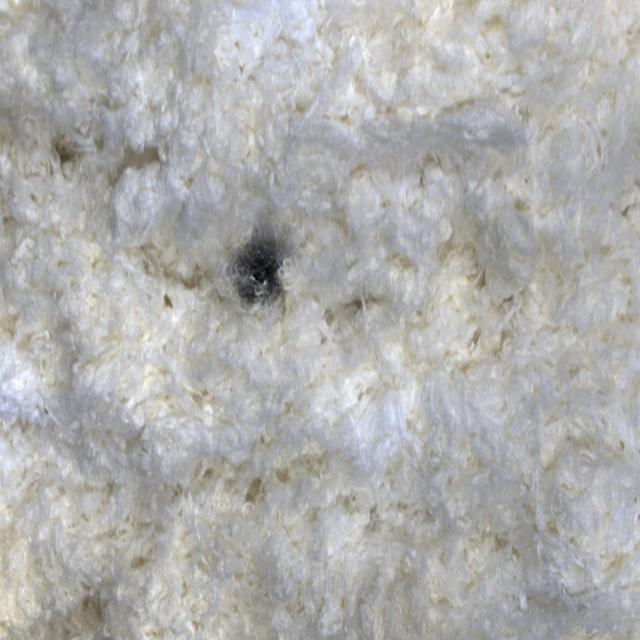dust: (206, 179, 324, 366)
